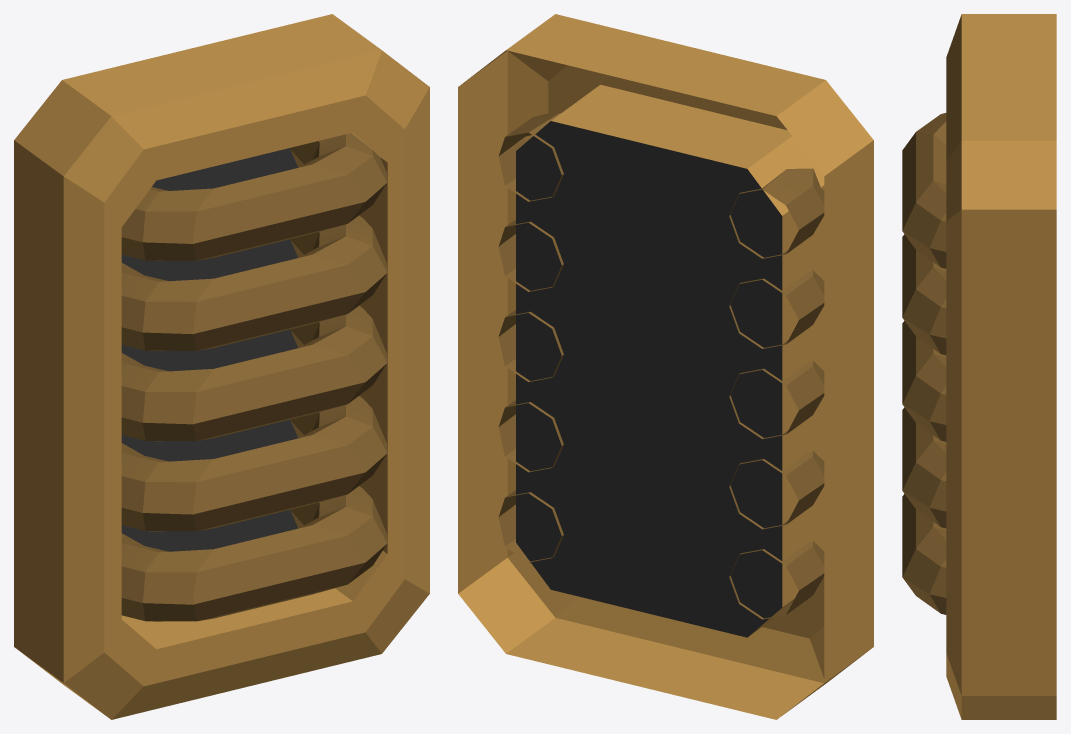
File: Details_Vent_4.gltf
3 views of the same model, side by side, from view 1: azimuth 30°, elevation 25°; view 2: azimuth 150°, elevation 25°; view 3: azimuth 270°, elevation 25° (orthographic). The views are drawn at different scales.
Parts seen in each view (by area): view 1: Details_Vent_4; view 2: Details_Vent_4; view 3: Details_Vent_4.
Boxes of the visible parts, x1,y1,x2,y2 form: Details_Vent_4: (14,14,429,719); Details_Vent_4: (458,14,873,719); Details_Vent_4: (902,14,1056,719).
Size of the model in its own units: 0.2383 by 0.3753 by 0.0905.
